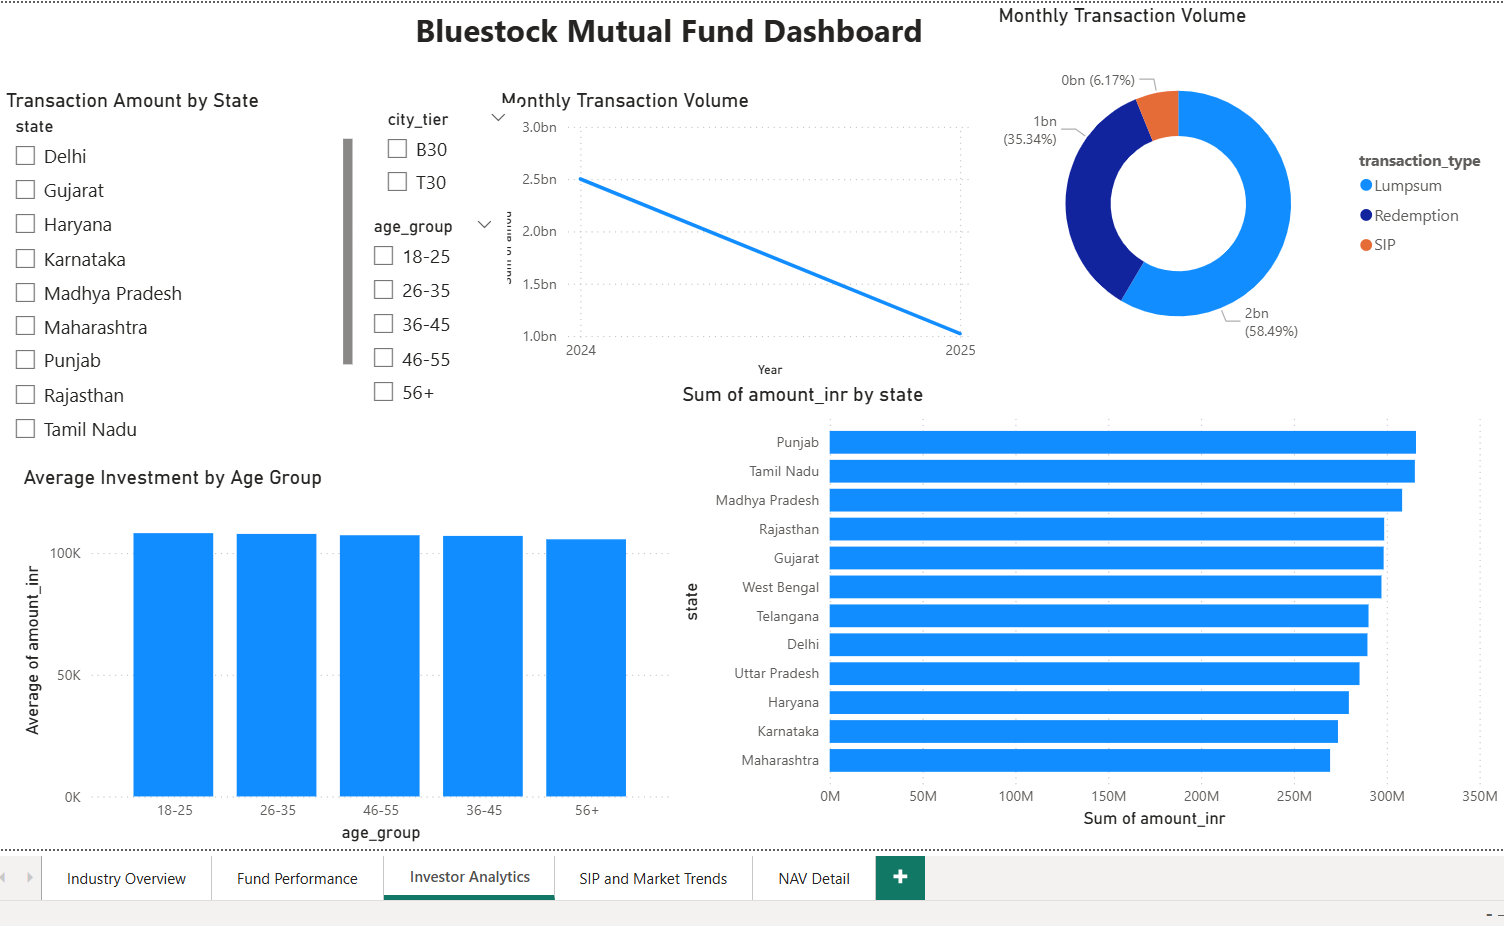

The dashboard page shown, as its layout file describes it:
{"tool":"powerbi","page":{"name":"Investor Analytics","canvas":[1280,720],"ordinal":2},"visuals":[{"type":"clusteredBarChart","fields":{"Category":["08_investor_transactions_cleaned.state"],"Y":["Sum(08_investor_transactions_cleaned.amount_inr)"]},"box":[575.5,322.7,704.8,385.1],"z":0},{"type":"clusteredColumnChart","title":"Average Investment by Age Group","fields":{"Category":["08_investor_transactions_cleaned.age_group"],"Y":["Avg(08_investor_transactions_cleaned.amount_inr)"]},"box":[14.9,394.1,560.6,325.7],"z":1000},{"type":"donutChart","title":"Monthly Transaction Volume","fields":{"Category":["08_investor_transactions_cleaned.transaction_type"],"Y":["Sum(08_investor_transactions_cleaned.amount_inr)"]},"box":[844.6,0,435.7,322.7],"z":2000},{"type":"lineChart","title":"Monthly Transaction Volume","fields":{"Y":["Sum(08_investor_transactions_cleaned.amount_inr)"],"Category":["08_investor_transactions_cleaned.transaction_date.Variation.Date Hierarchy.Year","08_investor_transactions_cleaned.transaction_date.Variation.Date Hierarchy.Quarter","08_investor_transactions_cleaned.transaction_date.Variation.Date Hierarchy.Month","08_investor_transactions_cleaned.transaction_date.Variation.Date Hierarchy.Day"]},"box":[421,72,414,251],"z":3000},{"type":"slicer","title":"Transaction Amount by State","fields":{"Values":["08_investor_transactions_cleaned.state"]},"box":[0,72,305,307],"z":4000},{"type":"slicer","fields":{"Values":["08_investor_transactions_cleaned.age_group"]},"box":[305,177,126,209],"z":5000},{"type":"slicer","fields":{"Values":["08_investor_transactions_cleaned.city_tier"]},"box":[317,85,126,92],"z":6000},{"type":"textbox","box":[305,0,528,54],"z":7000}]}

Visuals, with their boxes on the page's 1280x720 design canvas (x1, y1, x2, y2). These are canvas units, not pixel positions in the 1504x926 screenshot, which may show the page scaled, cropped or inside an application window:
clusteredBarChart - 08_investor_transactions_cleaned.state x Sum(08_investor_transactions_cleaned.amount_inr): region(576, 323, 1280, 708)
"Average Investment by Age Group" clusteredColumnChart: region(15, 394, 576, 720)
"Monthly Transaction Volume" donutChart: region(845, 0, 1280, 323)
"Monthly Transaction Volume" lineChart: region(421, 72, 835, 323)
"Transaction Amount by State" slicer: region(0, 72, 305, 379)
slicer - 08_investor_transactions_cleaned.age_group: region(305, 177, 431, 386)
slicer - 08_investor_transactions_cleaned.city_tier: region(317, 85, 443, 177)
textbox: region(305, 0, 833, 54)
